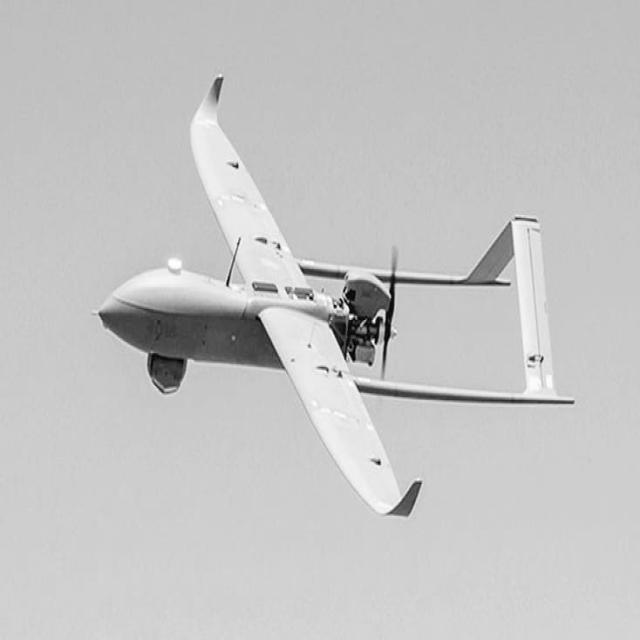iha: (34, 5, 574, 516)
